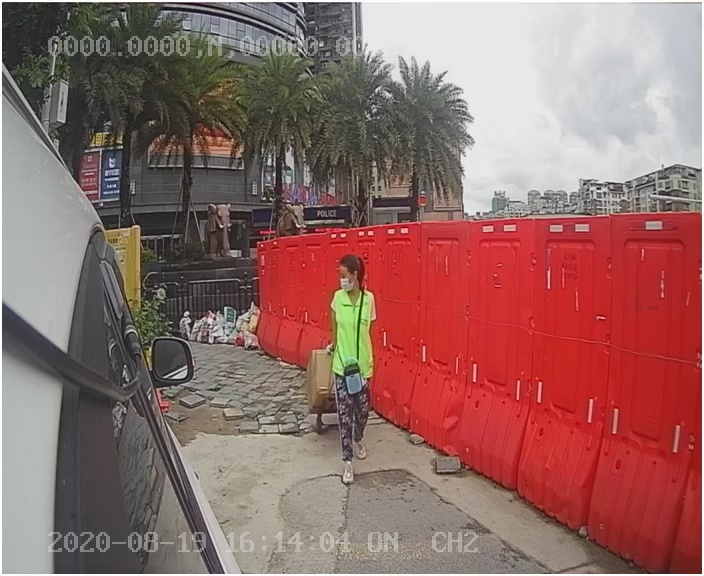person: (321, 248, 392, 491)
